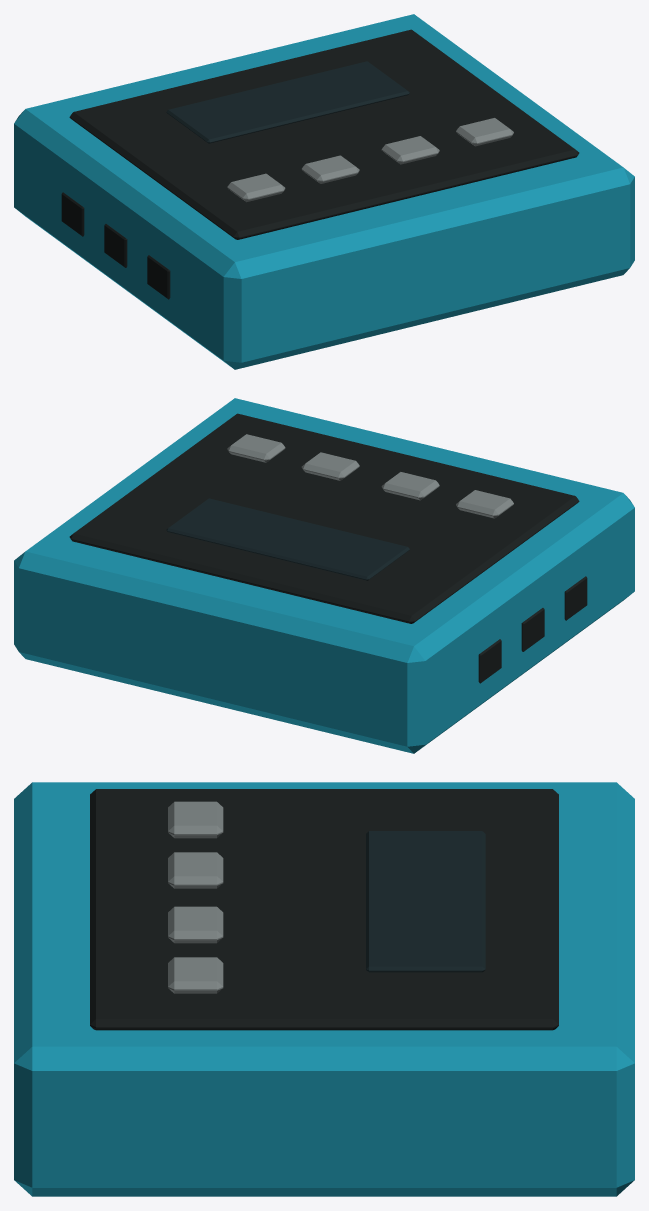
Rendered from lod2_source.glb.
3 views of the same model, one above another, from view 1: azimuth 30°, elevation 25°; view 2: azimuth 150°, elevation 25°; view 3: azimuth 270°, elevation 25° (orthographic). The views are drawn at different scales.
Parts seen in each view (by area): view 1: Blue flat charger body, Black top panel, Unlit top screen, Unlabelled top key.002, Unlabelled top key.003, Unlabelled top key, Unlabelled top key.001, Side dark opening.001, Side dark opening, Side dark opening.002; view 2: Blue flat charger body, Black top panel, Unlit top screen, Unlabelled top key.003, Unlabelled top key, Unlabelled top key.002, Unlabelled top key.001, Side dark opening.001, Side dark opening, Side dark opening.002; view 3: Blue flat charger body, Black top panel, Unlit top screen, Unlabelled top key, Unlabelled top key.002, Unlabelled top key.001, Unlabelled top key.003.
Part boxes in pixels (x1,y1,x2,y2): Blue flat charger body: (14, 14, 634, 369); Black top panel: (69, 29, 579, 239); Unlit top screen: (166, 61, 409, 143); Unlabelled top key.002: (381, 136, 439, 164); Unlabelled top key.003: (456, 118, 513, 146); Unlabelled top key: (227, 173, 285, 202); Unlabelled top key.001: (301, 155, 359, 183); Side dark opening.001: (104, 224, 127, 267); Side dark opening: (147, 255, 170, 299); Side dark opening.002: (61, 192, 84, 236); Blue flat charger body: (14, 398, 634, 753); Black top panel: (69, 413, 579, 623); Unlit top screen: (166, 498, 409, 580); Unlabelled top key.003: (227, 434, 285, 462); Unlabelled top key: (456, 490, 513, 518); Unlabelled top key.002: (301, 452, 359, 480); Unlabelled top key.001: (381, 472, 439, 500); Side dark opening.001: (521, 608, 544, 651); Side dark opening: (564, 576, 587, 620); Side dark opening.002: (478, 639, 501, 683); Blue flat charger body: (14, 782, 634, 1196); Black top panel: (90, 789, 558, 1030); Unlit top screen: (366, 831, 485, 972); Unlabelled top key: (168, 801, 223, 838); Unlabelled top key.002: (168, 906, 223, 943); Unlabelled top key.001: (168, 852, 223, 888); Unlabelled top key.003: (168, 957, 223, 993).
Bounding box in the file's own units: 0.1455 × 0.0415 × 0.135.
